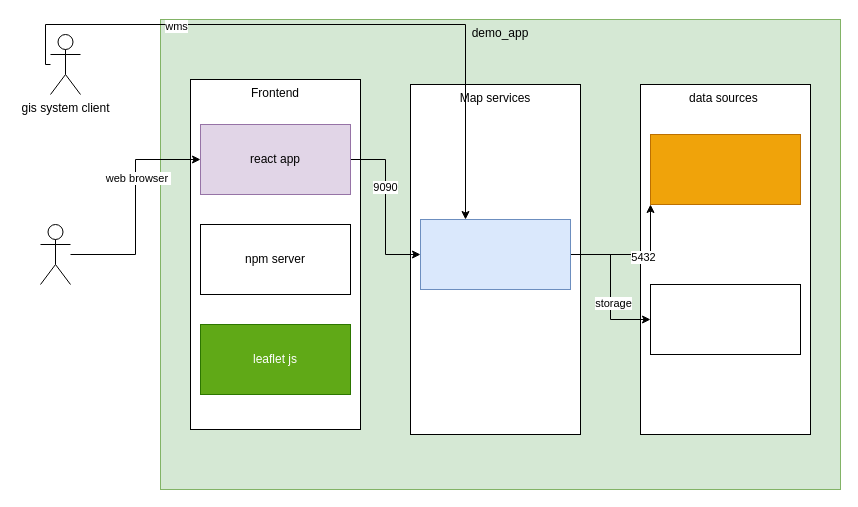
Image size: 858x507. Some labels were removed from this diagram. The centre of each missing label's shape, as x and y in pixels:
geoserver: (495,254)
gpkg, fgb files: (725,319)
postgis: (725,169)
web app client: (55,254)
